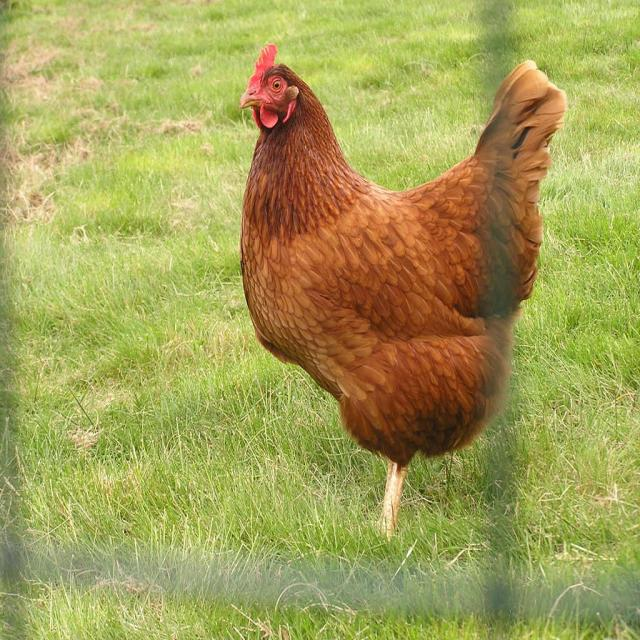Chicken: (238, 43, 568, 544)
